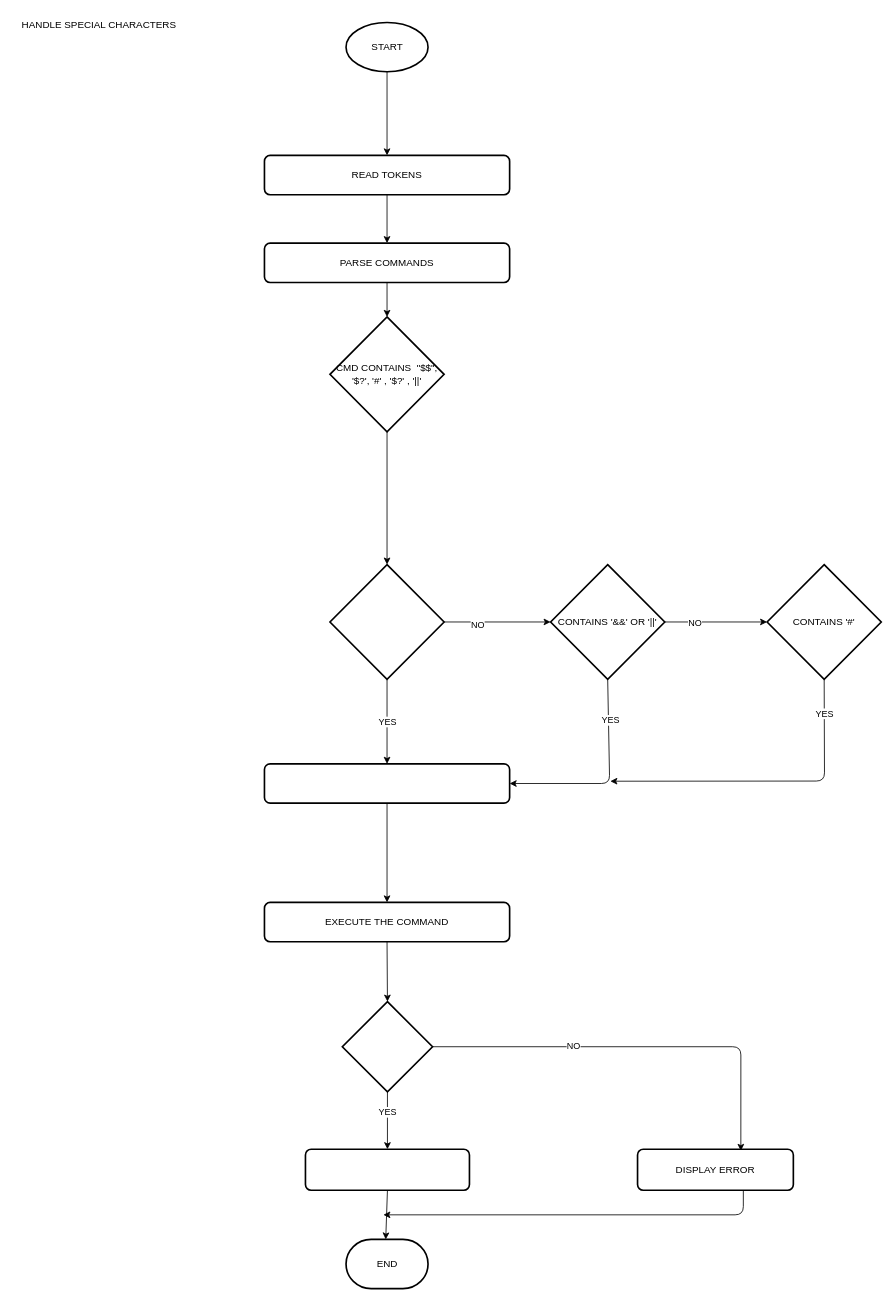
The diagram is 896 pixels wide and 1303 high, and some of its shapes have lost their labels. The box of each missing label's shape, as (x1, y1, x2, y2) in pixels:
CONTAINS '$$' OR '$?': (329, 563, 445, 680)
DISPLAY OUTPUT: (304, 1148, 470, 1191)
EXECUTE SUCCES?: (341, 1000, 433, 1092)
PROCESS THE COMMAND: (263, 763, 510, 804)
